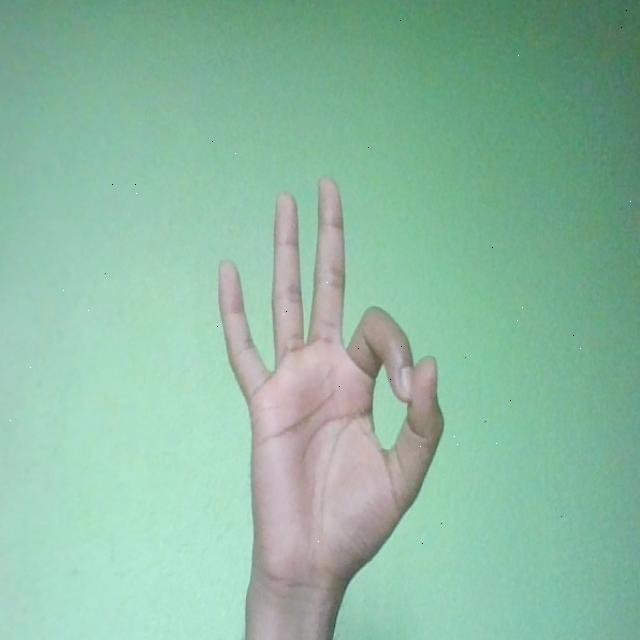Rock On: (218, 176, 447, 602)
